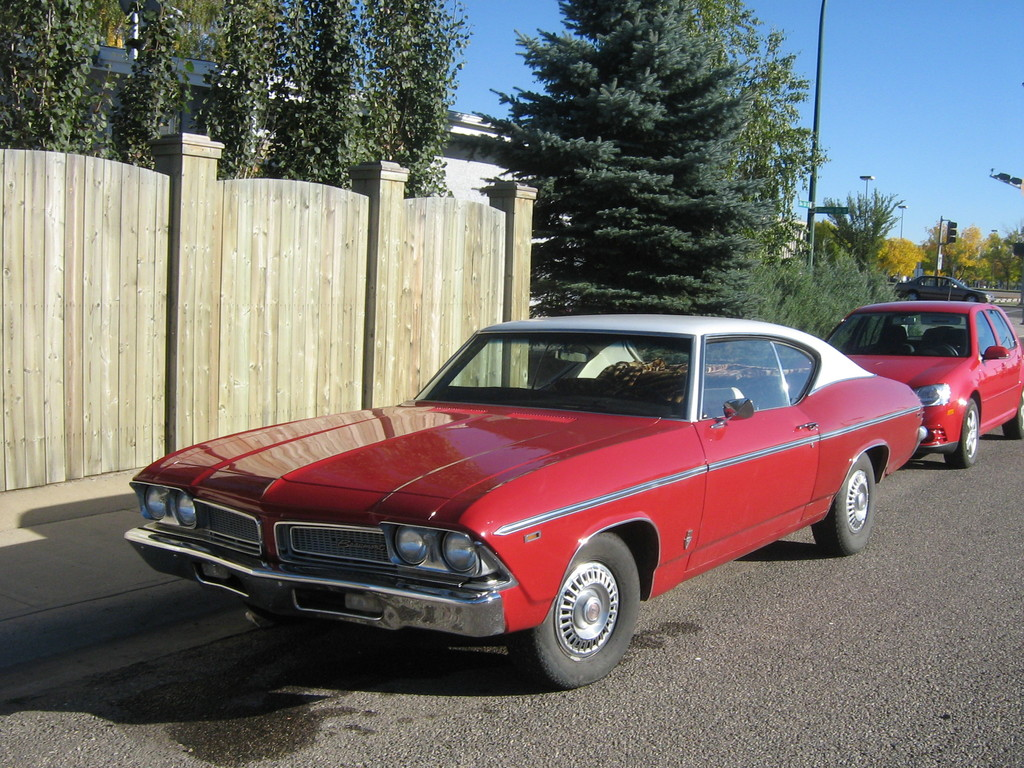Car: (122, 311, 927, 691), (825, 298, 1023, 464), (896, 271, 988, 302)
